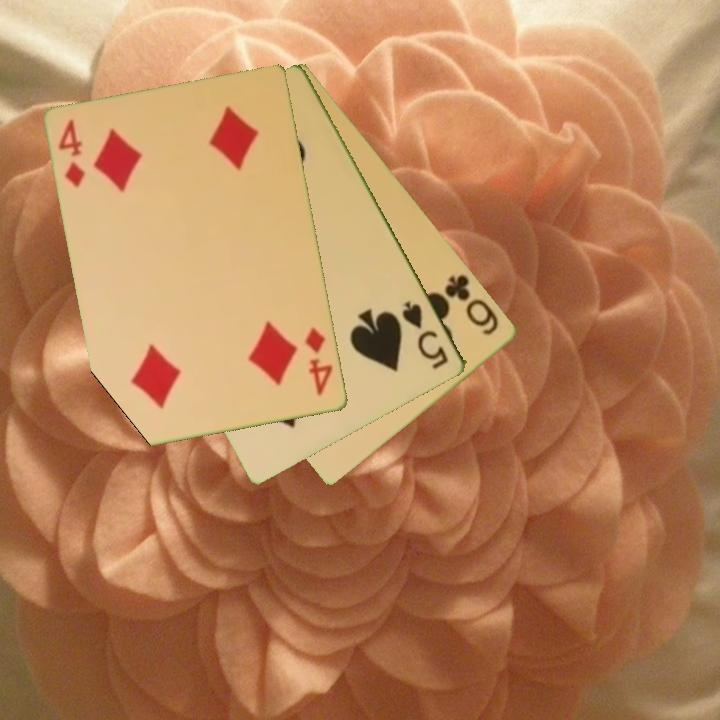4d: (302, 323, 336, 399), (55, 116, 89, 191)
5s: (399, 297, 452, 373)
6c: (441, 270, 502, 339)
